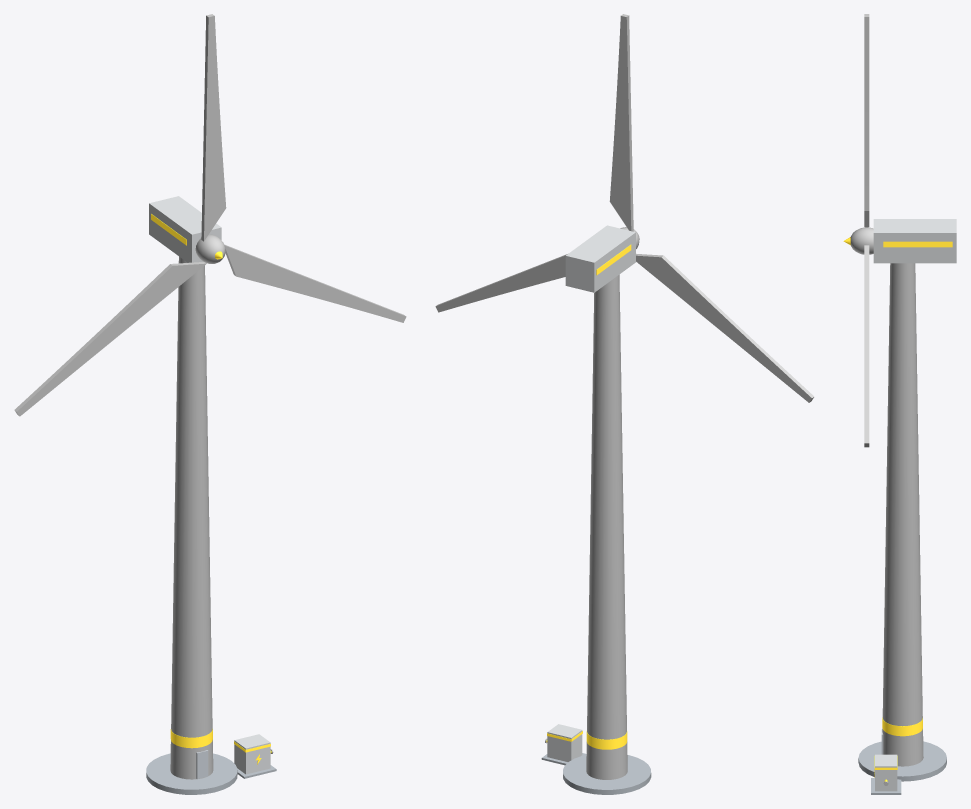
Rendered from Wind-large.glb.
3 renders of one model, left to right at view 1: azimuth 30°, elevation 25°; view 2: azimuth 150°, elevation 25°; view 3: azimuth 270°, elevation 25°, orthographic. The views are drawn at different scales.
Parts seen in each view (by area): view 1: tower, blade (×3), nacelle, foundation, transformer; view 2: tower, blade (×3), nacelle, foundation, transformer; view 3: tower, nacelle, blade (×2), foundation, band (×2), transformer, hub, plinth.
Part boxes in pixels (left/top/right/bottom): tower: left=170, top=256, right=213, bottom=779; blade (×3): left=14, top=14, right=406, bottom=416; nacelle: left=149, top=196, right=221, bottom=262; foundation: left=146, top=753, right=237, bottom=794; transformer: left=234, top=734, right=270, bottom=774; tower: left=586, top=274, right=627, bottom=779; blade (×3): left=435, top=14, right=814, bottom=402; nacelle: left=565, top=225, right=635, bottom=292; foundation: left=563, top=755, right=651, bottom=794; transformer: left=547, top=724, right=582, bottom=761; tower: left=882, top=263, right=923, bottom=766; nacelle: left=873, top=219, right=956, bottom=263; blade (×2): left=864, top=14, right=869, bottom=447; foundation: left=858, top=741, right=946, bottom=781; band (×2): left=882, top=241, right=952, bottom=736; transformer: left=875, top=754, right=897, bottom=791; hub: left=850, top=227, right=873, bottom=254; plinth: left=871, top=778, right=901, bottom=794.
Bounding box in the file's own units: 31.43 × 59.6 × 8.2.
